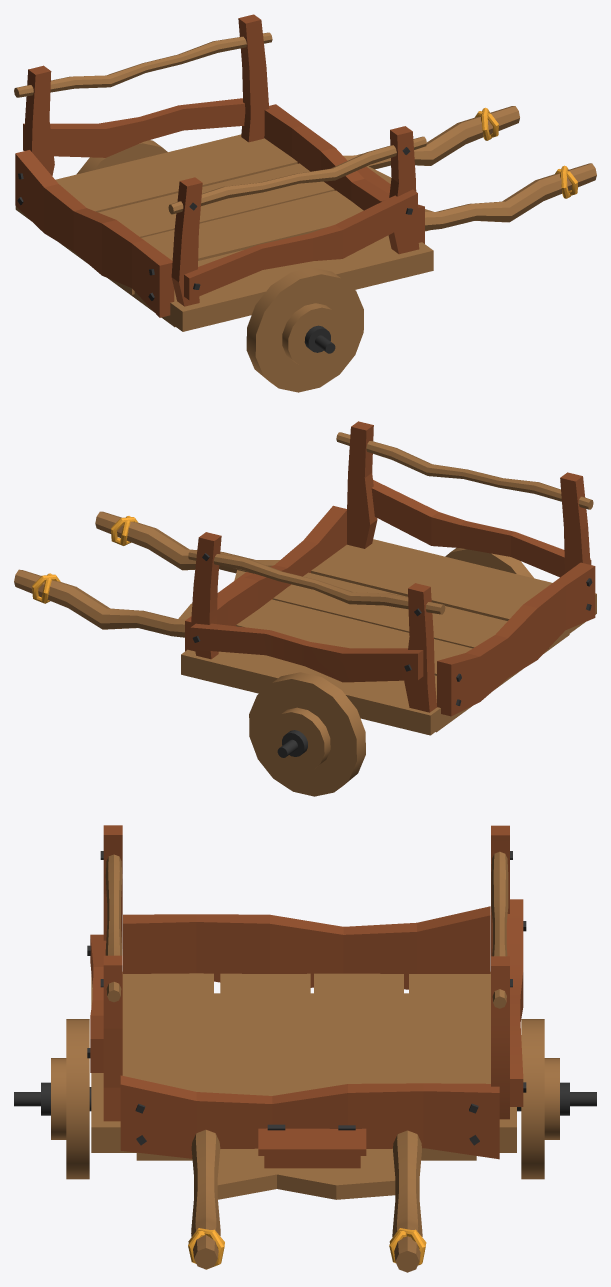
Rendered from PFE-Props-Charette.fbx.
3 views of the same model, one above another, from view 1: azimuth 30°, elevation 25°; view 2: azimuth 150°, elevation 25°; view 3: azimuth 270°, elevation 25° (orthographic). The views are drawn at different scales.
Parts seen in each view (by area): view 1: Cylinder.019; view 2: Cylinder.019; view 3: Cylinder.019.
Part boxes in pixels (box(x1,y1,x2,y2)): Cylinder.019: box(14, 14, 596, 392); Cylinder.019: box(14, 421, 596, 796); Cylinder.019: box(14, 825, 596, 1272).
Size of the model in its own units: 375 by 167 by 316.
